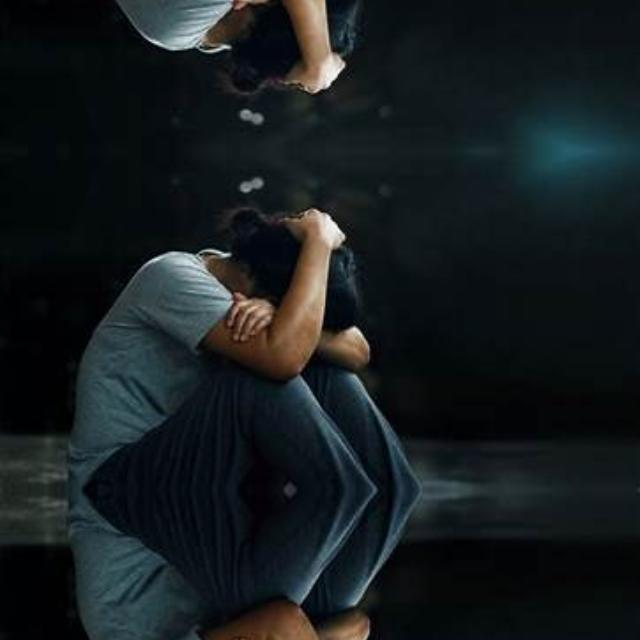person: (100, 208, 414, 482), (100, 497, 413, 640), (100, 0, 413, 92)
